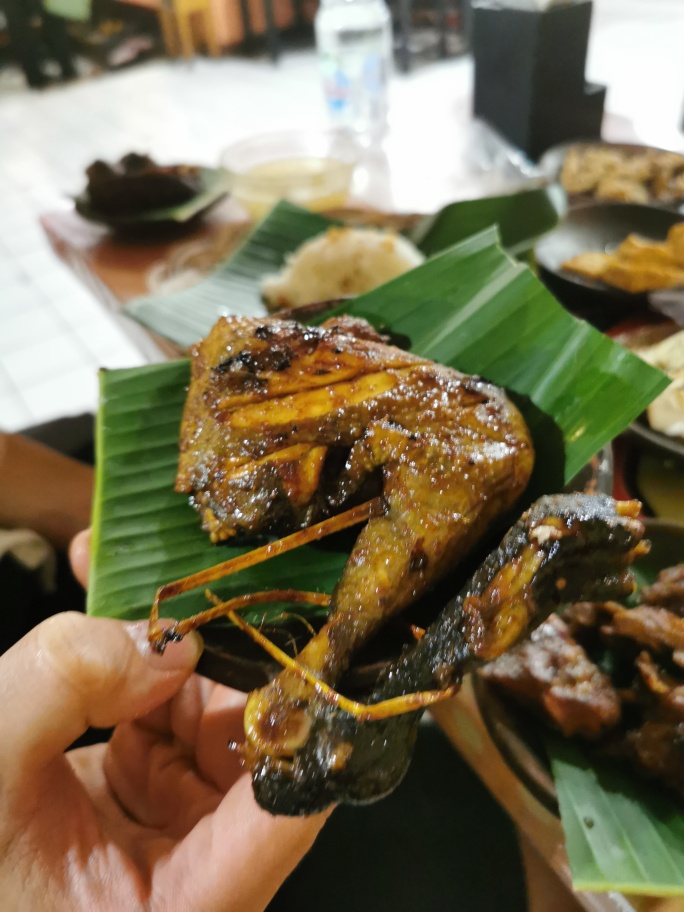ayam bakar: (177, 313, 649, 826)
